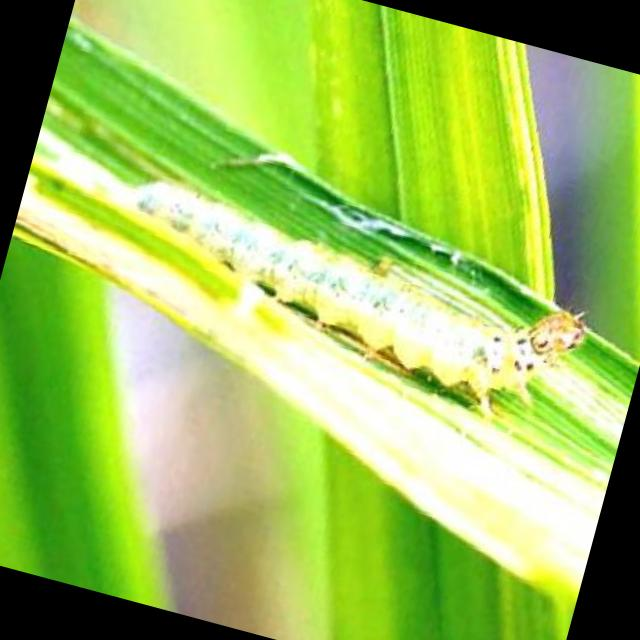leaf-folder: (103, 164, 612, 401)
